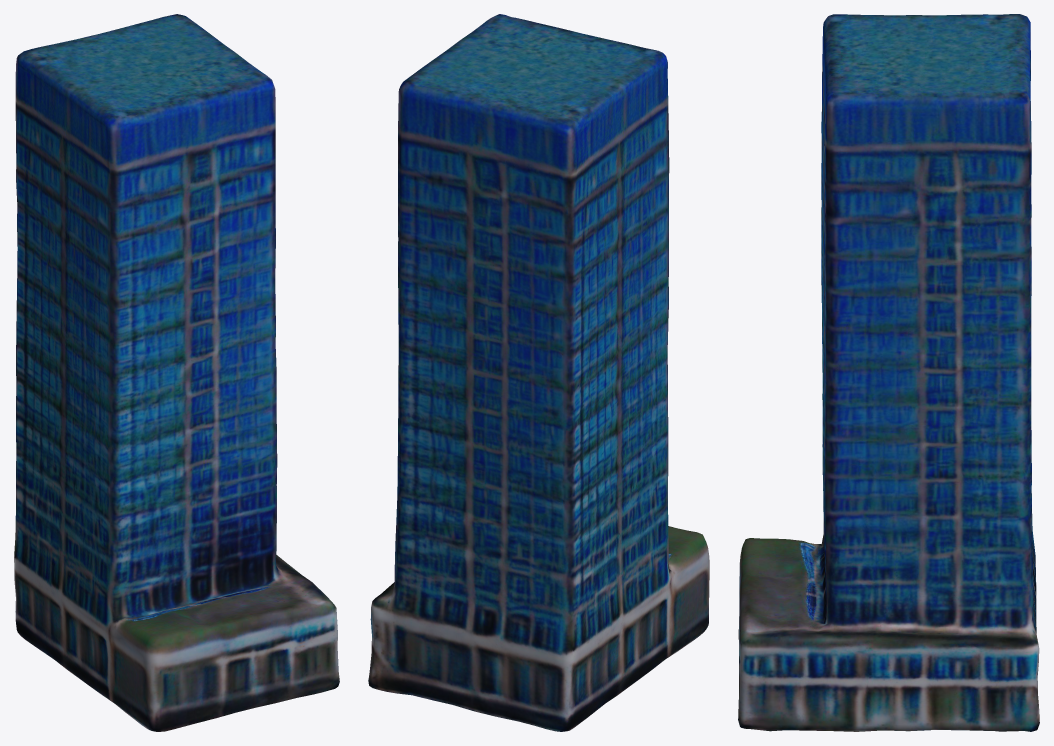
Rendered from 8f042d281e8a_A_tall_office_build.fbx.
3 renders of one model, left to right at view 1: azimuth 30°, elevation 25°; view 2: azimuth 150°, elevation 25°; view 3: azimuth 270°, elevation 25°, orthographic. The views are drawn at different scales.
Visible parts, largest first — view 1: mesh; view 2: mesh; view 3: mesh.
Part boxes in pixels (x1=…): mesh: x1=14, y1=14, x2=339, y2=731; mesh: x1=368, y1=14, x2=709, y2=731; mesh: x1=738, y1=14, x2=1039, y2=731.
Bounding box in the file's own units: 34.92 × 99.93 × 43.87.
